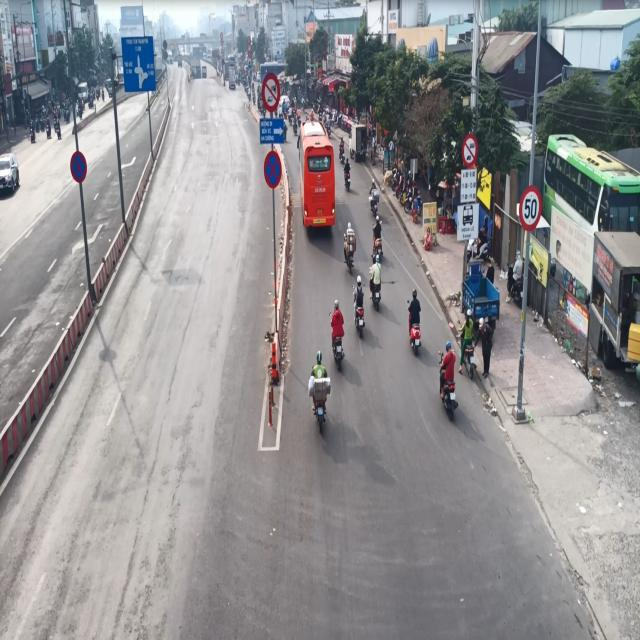bus: (297, 121, 338, 242)
motor: (305, 348, 335, 432), (439, 337, 463, 429), (405, 286, 424, 369), (326, 297, 344, 371), (350, 271, 370, 335), (371, 259, 385, 318)
